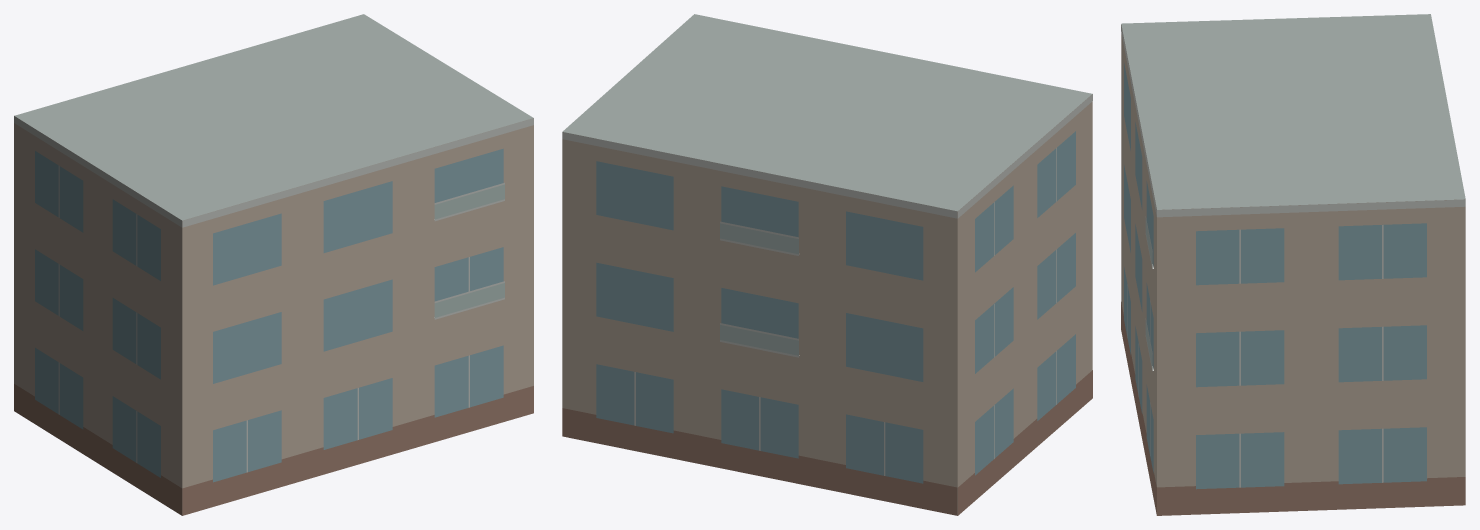
Rendered from survey-upis-32857242.glb.
3 views of the same model, side by side, from view 1: azimuth 30°, elevation 25°; view 2: azimuth 150°, elevation 25°; view 3: azimuth 270°, elevation 25° (orthographic). The views are drawn at different scales.
Parts seen in each view (by area): view 1: survey-upis-32857242.tmp; view 2: survey-upis-32857242.tmp; view 3: survey-upis-32857242.tmp.
Boxes of the visible parts, x1,y1,x2,y2 form: survey-upis-32857242.tmp: (14, 14, 533, 515); survey-upis-32857242.tmp: (562, 14, 1092, 515); survey-upis-32857242.tmp: (1121, 14, 1465, 515).
Bounding box in the file's own units: 13.88 × 10.1 × 10.32.
